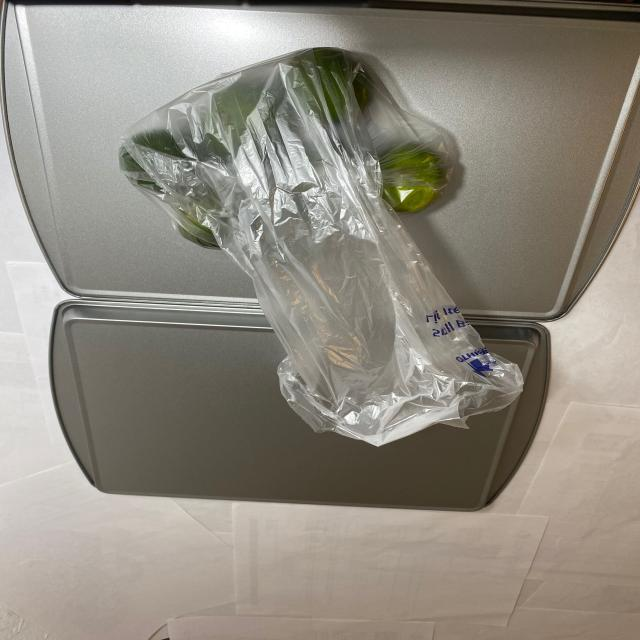lemon: (116, 55, 454, 252)
